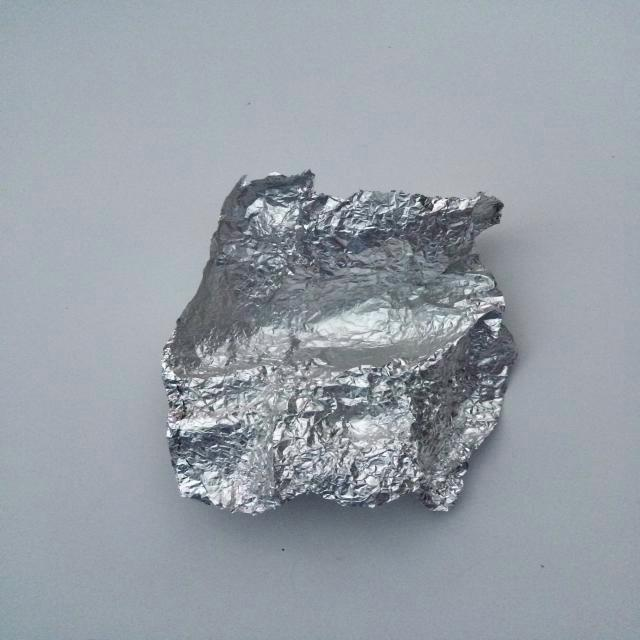metal: (146, 158, 534, 534)
